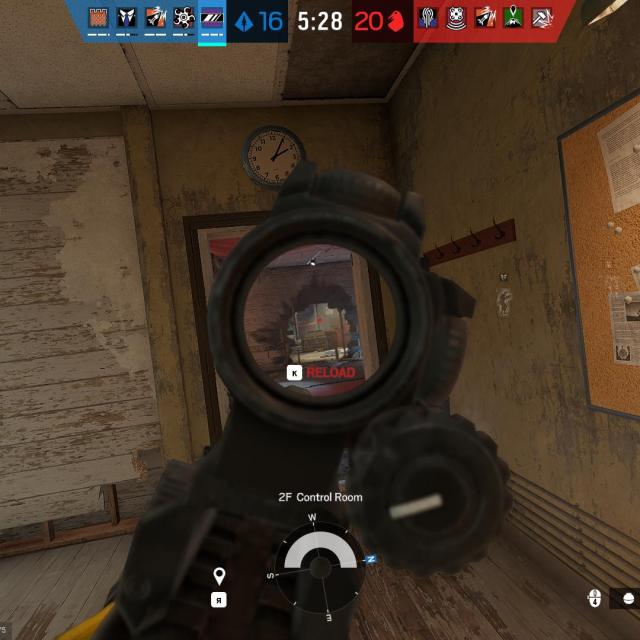Friend_label: (598, 259, 621, 281), (496, 272, 512, 293)
